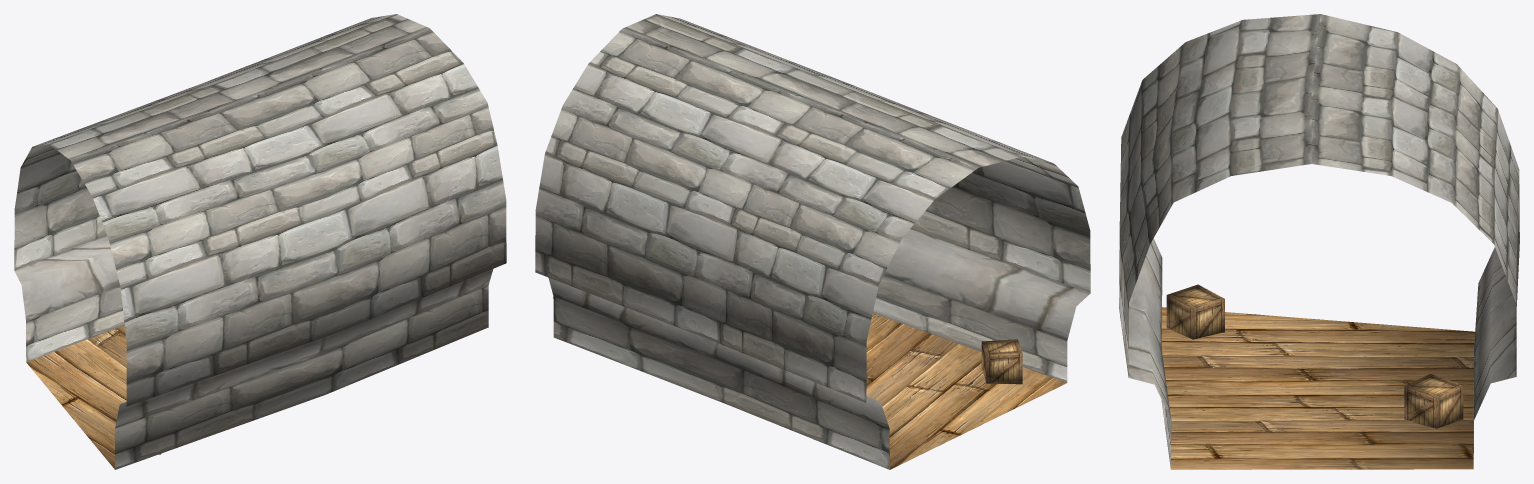
The model's file is stormwind_195.fbx.
3 views of the same model, side by side, from view 1: azimuth 30°, elevation 25°; view 2: azimuth 150°, elevation 25°; view 3: azimuth 270°, elevation 25° (orthographic). The views are drawn at different scales.
Visible parts, largest first — view 1: stormwind_195_39, stormwind_195_45, stormwind_195_181; view 2: stormwind_195_39, stormwind_195_45, stormwind_195_181, stormwind_195_59; view 3: stormwind_195_39, stormwind_195_181, stormwind_195_45, stormwind_195_59.
Part boxes in pixels (left/top/right/bottom): stormwind_195_39: left=14, top=14, right=506, bottom=469; stormwind_195_45: left=14, top=235, right=493, bottom=428; stormwind_195_181: left=26, top=325, right=126, bottom=469; stormwind_195_39: left=535, top=14, right=1090, bottom=469; stormwind_195_45: left=548, top=229, right=1090, bottom=428; stormwind_195_181: left=866, top=313, right=1066, bottom=469; stormwind_195_59: left=981, top=339, right=1022, bottom=384; stormwind_195_39: left=1119, top=14, right=1519, bottom=468; stormwind_195_181: left=1162, top=307, right=1475, bottom=469; stormwind_195_45: left=1128, top=238, right=1516, bottom=419; stormwind_195_59: left=1166, top=284, right=1463, bottom=428.
Bounding box in the file's own units: 18.53 × 14.05 × 14.05.
